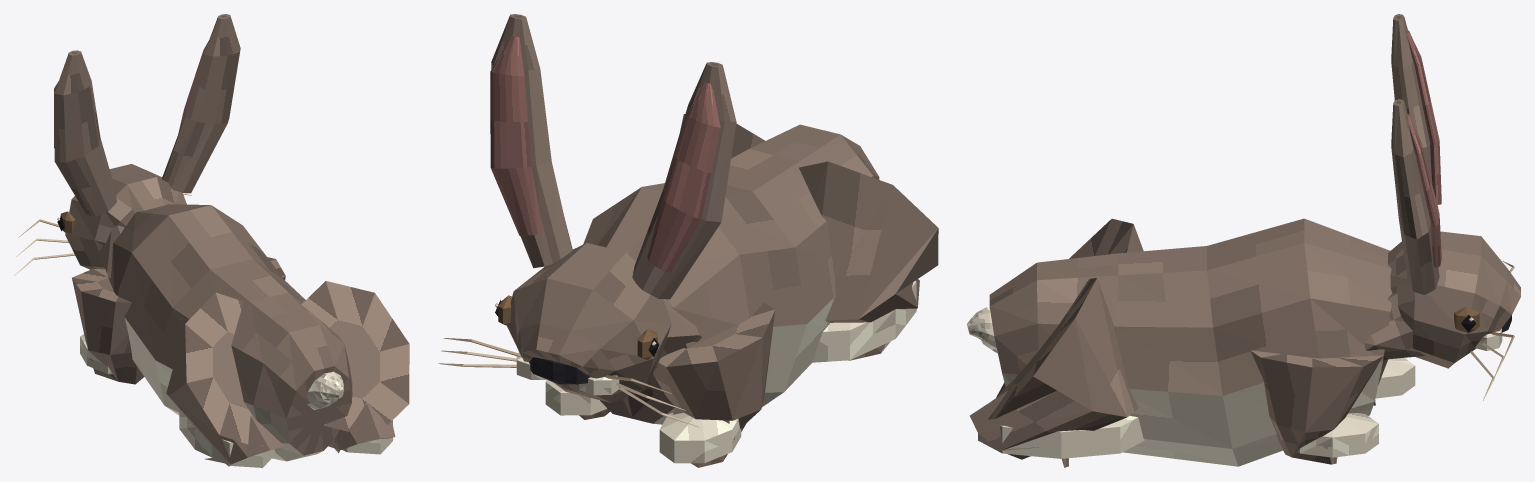
File: mon_hare_baby.glb
The picture shows the model from 3 angles, left to right: view 1: azimuth 30°, elevation 25°; view 2: azimuth 150°, elevation 25°; view 3: azimuth 270°, elevation 25°; orthographic projection. The views are drawn at different scales.
Visible parts, largest first — view 1: closed_body; view 2: closed_body; view 3: closed_body.
Part boxes in pixels (x1,y1,x2,y2): closed_body: (14,14,409,467); closed_body: (438,14,938,467); closed_body: (967,14,1520,467).
Bounding box in the file's own units: 0.0791 × 0.123 × 0.1564.
1 material, 1 textured.
